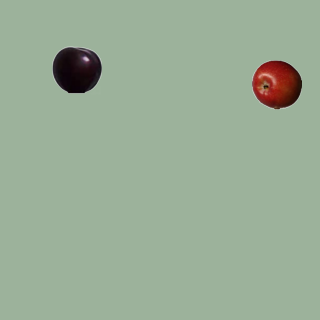Apple Braeburn: (251, 59, 301, 109)
Cherry Wax Black: (51, 44, 101, 94)
